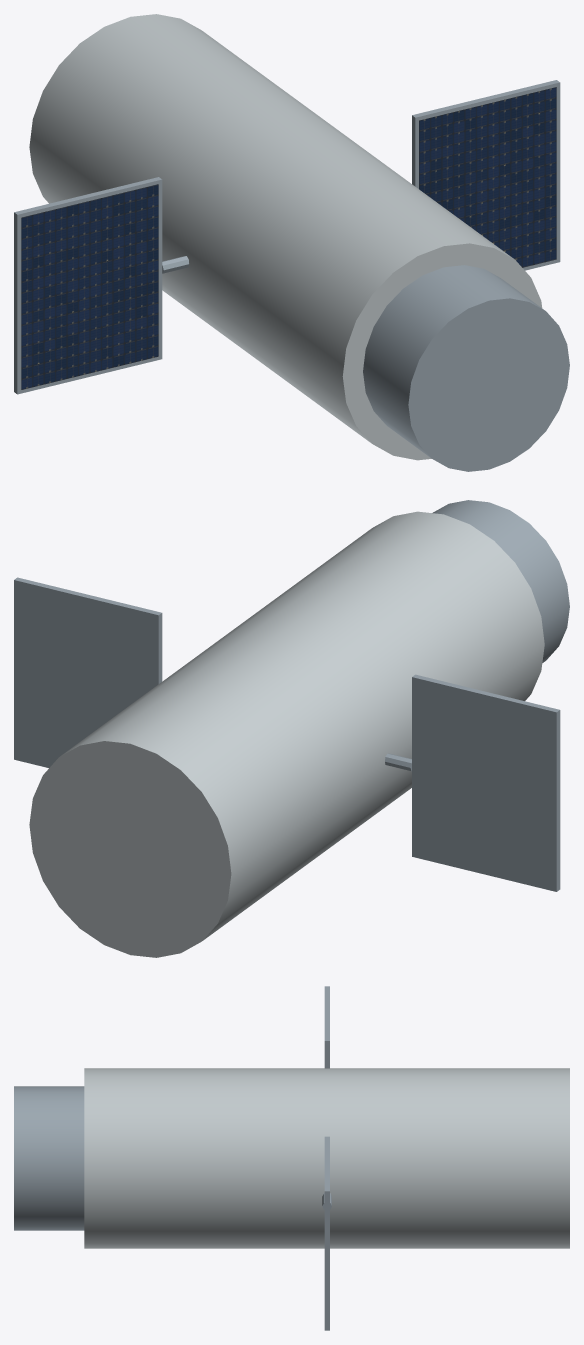
File: ref-tianzhou-42684.glb
3 views of the same model, one above another, from view 1: azimuth 30°, elevation 25°; view 2: azimuth 150°, elevation 25°; view 3: azimuth 270°, elevation 25° (orthographic). The views are drawn at different scales.
Visible parts, largest first — view 1: Spacecraft body, Photovoltaic laminates (×2), Cylindrical section, Array frame (×2); view 2: Spacecraft body, Array frame (×2), Cylindrical section; view 3: Spacecraft body, Cylindrical section, Array frame (×2).
Part boxes in pixels (bbox=[...]): Spacecraft body: bbox=[29, 14, 542, 460]; Photovoltaic laminates (×2): bbox=[21, 87, 556, 389]; Cylindrical section: bbox=[363, 265, 569, 471]; Array frame (×2): bbox=[14, 80, 560, 394]; Spacecraft body: bbox=[29, 511, 544, 957]; Array frame (×2): bbox=[14, 577, 560, 891]; Cylindrical section: bbox=[432, 500, 569, 662]; Spacecraft body: bbox=[84, 1068, 569, 1248]; Cylindrical section: bbox=[14, 1086, 84, 1230]; Array frame (×2): bbox=[324, 986, 329, 1330].
Bounding box in the file's own units: 9 × 3.35 × 10.3.
3 materials, 1 textured.
